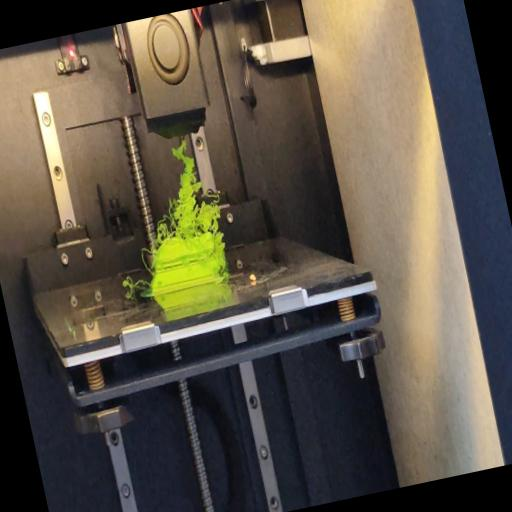spaghetti: (136, 136, 224, 250), (210, 235, 236, 288), (116, 270, 149, 296), (137, 240, 154, 274)
